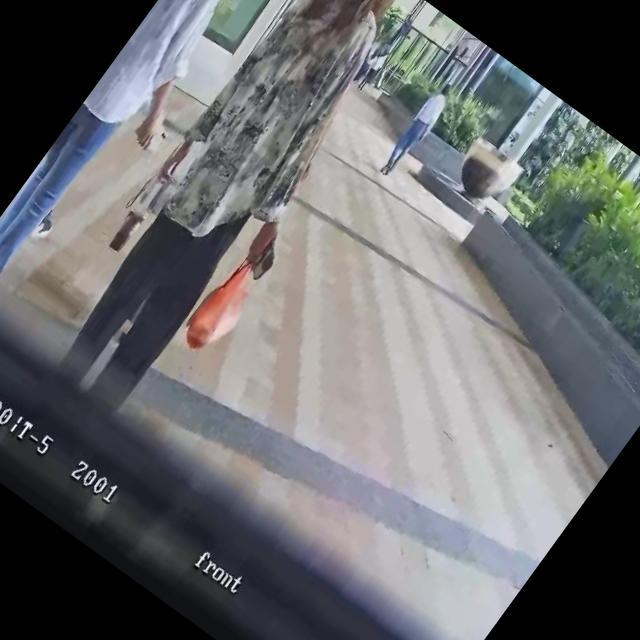person: (26, 0, 451, 437), (0, 0, 312, 348), (375, 76, 460, 182), (352, 46, 390, 92)
